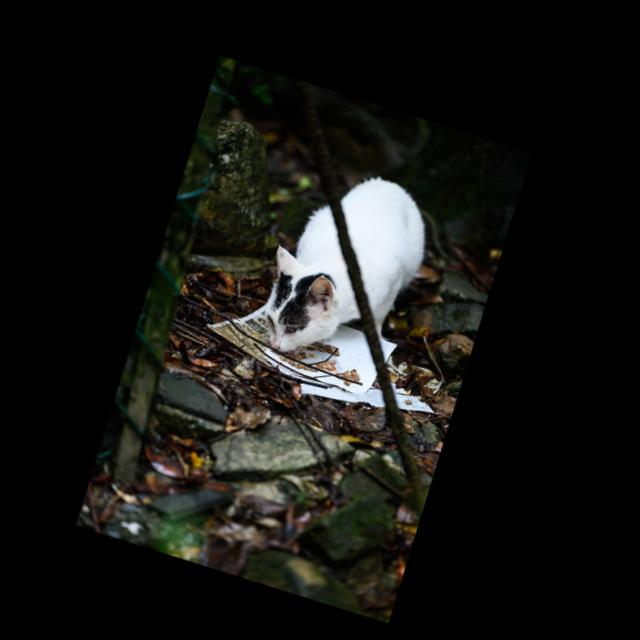animals: (249, 148, 443, 382)
